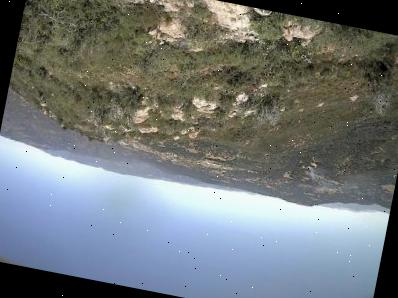smoke: (297, 161, 343, 195)
